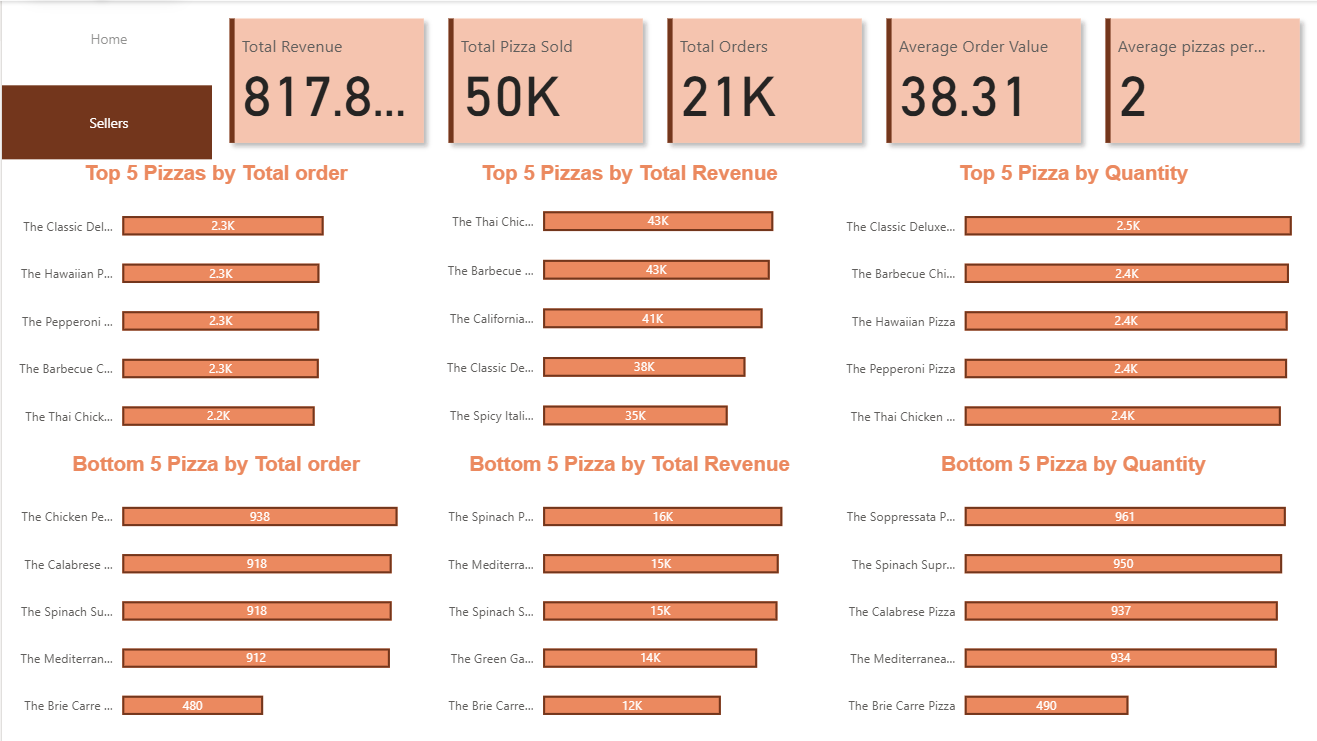

The dashboard page shown, as its layout file describes it:
{"tool":"powerbi","page":{"name":"Sellers","canvas":[1280,720],"ordinal":1},"visuals":[{"type":"pageNavigator","box":[0,0,208.1,155.6],"z":0},{"type":"actionButton","box":[0,0,200.4,77.8],"z":1000},{"type":"cardVisual","fields":{"Data":["Sum(Total_Revenue.Total Revenue)","Sum(Total_Pizza_Sold.Total Pizza Sold)","Sum(Total_Orders.Total Orders)","Sum(Average_Order_Value.Average Order Value)","Sum(Average_pizzas_per_order.Average pizzas per order)"]},"box":[204.3,0,1075.7,155.6],"z":2000},{"type":"clusteredBarChart","title":"Top 5 Pizzas by Total order","fields":{"Category":["Top_5_Pizzas_by_Total_Orders.pizza_name"],"Y":["Sum(Top_5_Pizzas_by_Total_Orders.Total Orders)"]},"box":[0,155.6,416.3,283],"z":3000},{"type":"clusteredBarChart","title":"Bottom 5 Pizza by Total order","fields":{"Category":["Bottom_5_Pizzas_by_Total_Orders.pizza_name"],"Y":["Sum(Bottom_5_Pizzas_by_Total_Orders.Total Orders)"]},"box":[0,438.7,416.3,281.1],"z":4000},{"type":"clusteredBarChart","title":"Top 5 Pizza by Quantity","fields":{"Category":["Top_5_Pizzas_by_Quantity.pizza_name"],"Y":["Sum(Top_5_Pizzas_by_Quantity.Total Pizza Sold)"]},"box":[804.4,155.6,475.6,283],"z":5000},{"type":"clusteredBarChart","title":"Bottom 5 Pizza by Total Revenue","fields":{"Y":["Sum(Bottom_5_Pizzas_by_Revenue.Total Revenue)"],"Category":["Bottom_5_Pizzas_by_Revenue.pizza_name"]},"box":[416.3,438.7,388.1,281.1],"z":6000},{"type":"clusteredBarChart","title":"Top 5 Pizzas by Total Revenue ","fields":{"Category":["Top_5_Pizzas_by_Revenue.pizza_name"],"Y":["Sum(Top_5_Pizzas_by_Revenue.Total Revenue)"]},"box":[416.3,155.6,388.1,283],"z":7000},{"type":"clusteredBarChart","title":"Bottom 5 Pizza by Quantity","fields":{"Category":["Bottom_5_Pizzas_by_Quantity.pizza_name"],"Y":["Sum(Bottom_5_Pizzas_by_Quantity.Total Pizza Sold)"]},"box":[804.4,438.7,475.6,281.1],"z":8000}]}

Visuals, with their boxes in screenshot pixels (x1, y1, x2, y2), scaled from the page's 1280x720 canvas onto the 1317x741 screenshot:
pageNavigator: x1=0 y1=0 x2=214 y2=160
actionButton: x1=0 y1=0 x2=206 y2=80
cardVisual - Sum(Total_Revenue.Total Revenue) x Sum(Total_Pizza_Sold.Total Pizza Sold): x1=210 y1=0 x2=1316 y2=160
"Top 5 Pizzas by Total order" clusteredBarChart: x1=0 y1=160 x2=428 y2=451
"Bottom 5 Pizza by Total order" clusteredBarChart: x1=0 y1=451 x2=428 y2=740
"Top 5 Pizza by Quantity" clusteredBarChart: x1=828 y1=160 x2=1316 y2=451
"Bottom 5 Pizza by Total Revenue" clusteredBarChart: x1=428 y1=451 x2=828 y2=740
"Top 5 Pizzas by Total Revenue " clusteredBarChart: x1=428 y1=160 x2=828 y2=451
"Bottom 5 Pizza by Quantity" clusteredBarChart: x1=828 y1=451 x2=1316 y2=740
